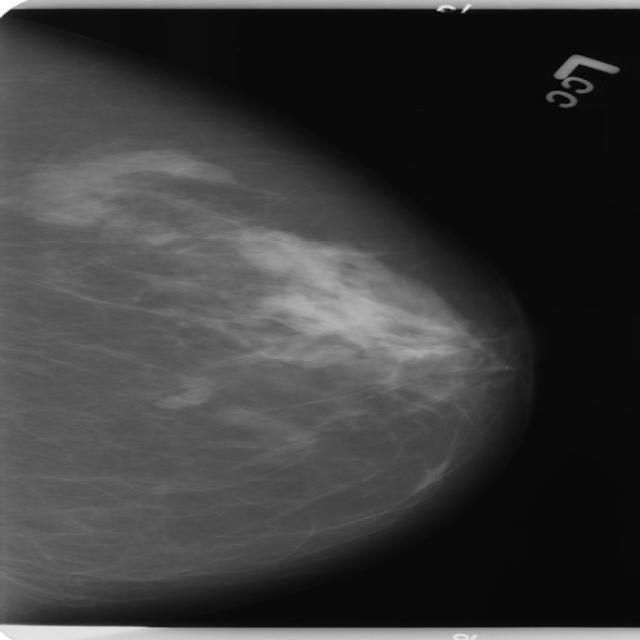tumour: (150, 386, 209, 409)
